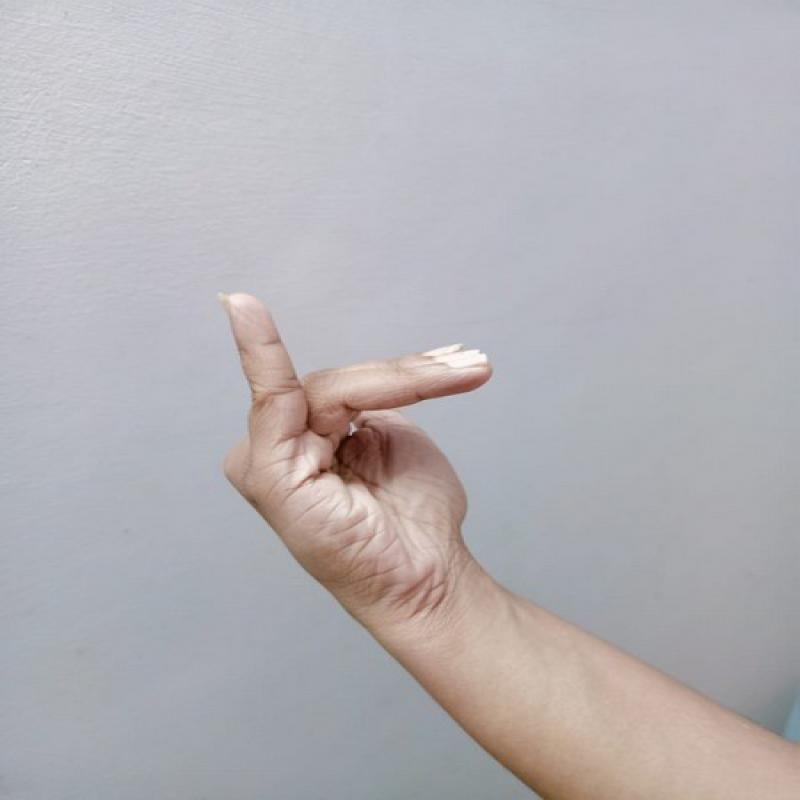Kartharee Mukham: (195, 262, 503, 642)
